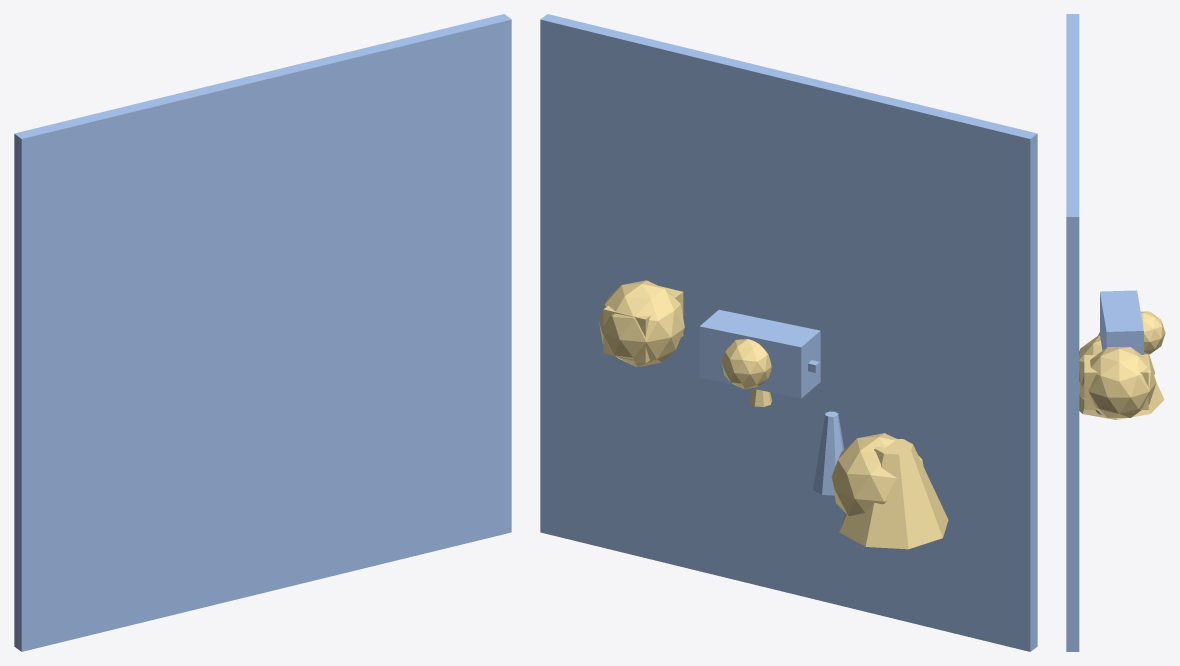
Rendered from gravity-lander-kit.glb.
3 views of the same model, side by side, from view 1: azimuth 30°, elevation 25°; view 2: azimuth 150°, elevation 25°; view 3: azimuth 270°, elevation 25° (orthographic). The views are drawn at different scales.
Visible parts, largest first — view 1: ENVIRONMENT_GROUND; view 2: ENVIRONMENT_GROUND, ENVIRONMENT_LANDMARK, PLAYER_BODY, OBSTACLE, PROFILE_ENVIRONMENT_DETAIL, PLAYER_CORE, PROFILE_ENVIRONMENT_SPIRE, PROFILE_OBSTACLE_DETAIL; view 3: ENVIRONMENT_GROUND, OBSTACLE, PLAYER_BODY, PLAYER_CORE, PROFILE_OBSTACLE_DETAIL, PROFILE_ENVIRONMENT_DETAIL, ENVIRONMENT_LANDMARK.
Boxes of the visible parts, x1,y1,x2,y2 form: ENVIRONMENT_GROUND: (14, 14, 511, 651); ENVIRONMENT_GROUND: (540, 14, 1037, 651); ENVIRONMENT_LANDMARK: (839, 438, 948, 549); PLAYER_BODY: (699, 309, 820, 398); OBSTACLE: (599, 280, 684, 367); PROFILE_ENVIRONMENT_DETAIL: (831, 433, 923, 516); PLAYER_CORE: (721, 339, 771, 389); PROFILE_ENVIRONMENT_SPIRE: (813, 411, 844, 495); PROFILE_OBSTACLE_DETAIL: (603, 286, 683, 363); ENVIRONMENT_GROUND: (1066, 14, 1079, 651); OBSTACLE: (1082, 347, 1156, 417); PLAYER_BODY: (1100, 290, 1143, 354); PLAYER_CORE: (1140, 311, 1165, 354); PROFILE_OBSTACLE_DETAIL: (1084, 355, 1148, 409); PROFILE_ENVIRONMENT_DETAIL: (1079, 335, 1154, 399); ENVIRONMENT_LANDMARK: (1079, 332, 1164, 419).
Size of what is drawn, in the model's own units: 9 by 9 by 1.86.
